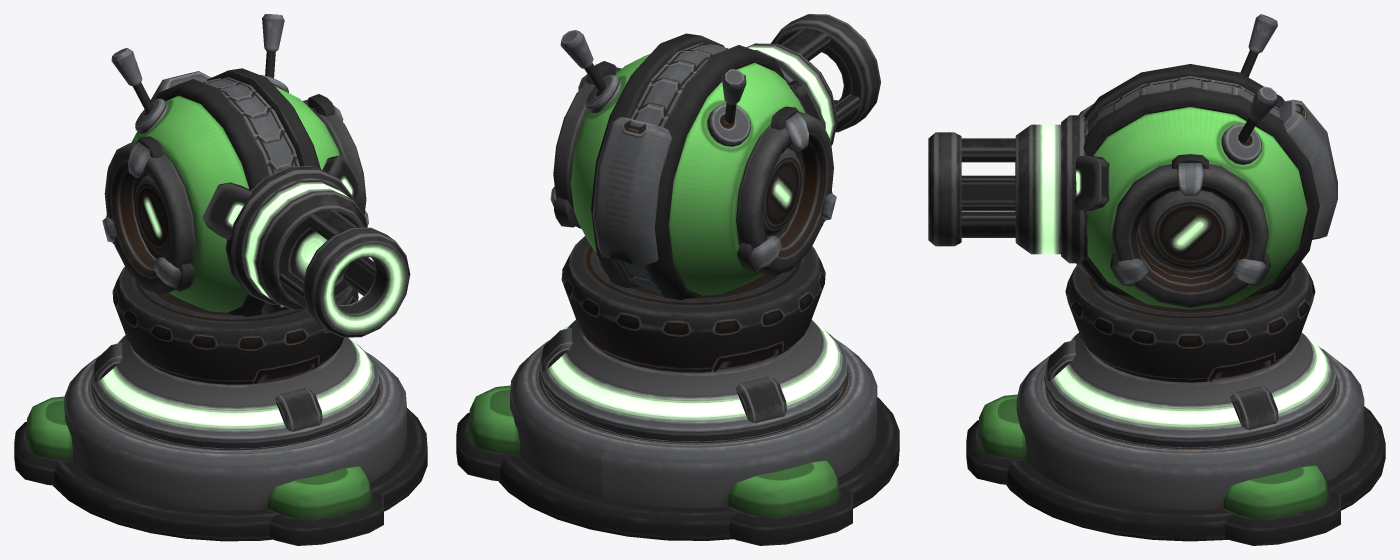
Rendered from Laser_Green_1.gltf.
The picture shows the model from 3 angles, left to right: view 1: azimuth 30°, elevation 25°; view 2: azimuth 150°, elevation 25°; view 3: azimuth 270°, elevation 25°; orthographic projection. The views are drawn at different scales.
Visible parts, largest first — view 1: l2_base, l2_mid, l2_main, l2_barrel1, l2_side; view 2: l2_base, l2_main, l2_mid, l2_side, l2_barrel1; view 3: l2_base, l2_main, l2_mid, l2_barrel1, l2_side.
Boxes of the visible parts, x1,y1,x2,y2 form: l2_base: (14,352,427,545); l2_mid: (91,266,379,448); l2_main: (111,14,339,316); l2_barrel1: (202,155,410,337); l2_side: (102,94,368,294); l2_base: (456,338,899,545); l2_main: (560,30,805,300); l2_mid: (539,236,848,441); l2_side: (550,61,836,275); l2_barrel1: (746,14,880,145); l2_base: (966,349,1385,545); l2_main: (1080,14,1337,309); l2_mid: (1044,261,1336,447); l2_barrel1: (928,103,1109,277); l2_side: (1110,154,1270,307).
Bounding box in the file's own units: 0.7381 × 0.79 × 0.803.
1 material, 1 textured.
